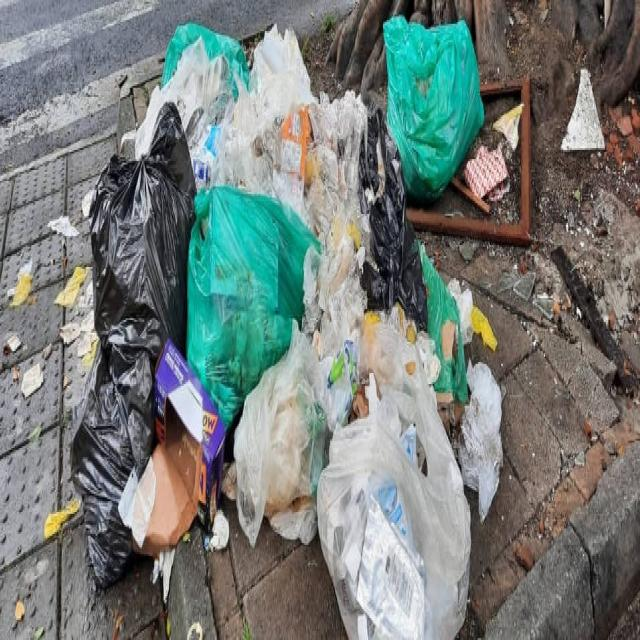garbage: (70, 9, 512, 640)
